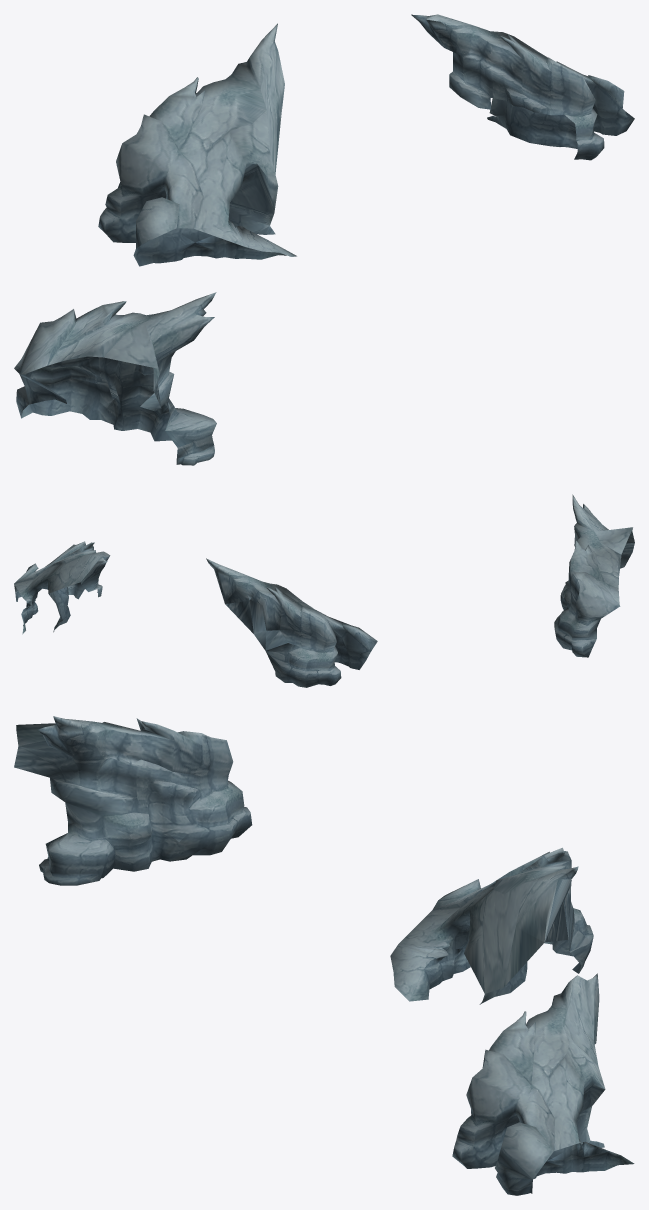
The model's file is yanshi20_1.fbx.
The picture shows the model from 3 angles, top to bottom: view 1: azimuth 30°, elevation 25°; view 2: azimuth 150°, elevation 25°; view 3: azimuth 270°, elevation 25°; orthographic projection. The views are drawn at different scales.
Visible parts, largest first — view 1: yanshi20_1; view 2: yanshi20_1; view 3: yanshi20_1.
Boxes of the visible parts, box(x1,y1,x2,y2) form: yanshi20_1: box(14, 14, 634, 465); yanshi20_1: box(14, 494, 634, 687); yanshi20_1: box(14, 716, 634, 1195).
Bounding box in the file's own units: 5077 × 1076 × 3386.
